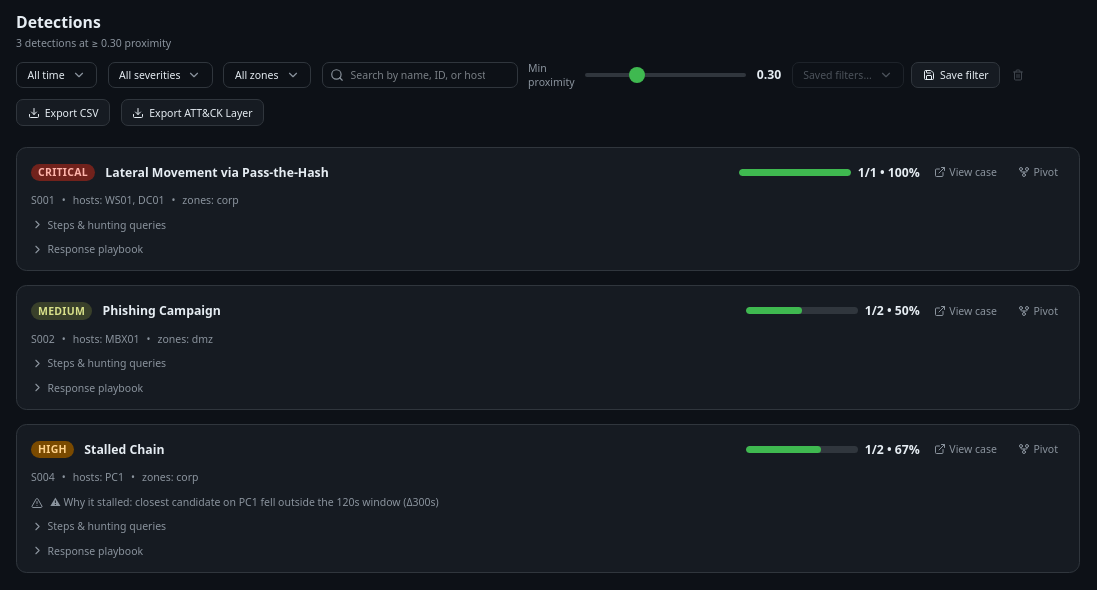
Test: Dashboard › severity filter can be cleared back to All (Fix 1: empty option restores unfiltered list)
The image size is (1097, 590).
Expected: the text "Lateral Movement via Pass-the-Hash" is shown, [105,164,329,180]
Expected: the text "Phishing Campaign" is shown, [103,302,221,319]
# Select CRITICAL
Click the dropdown named "severity".
click(160, 75)  # box [108,62,213,88]
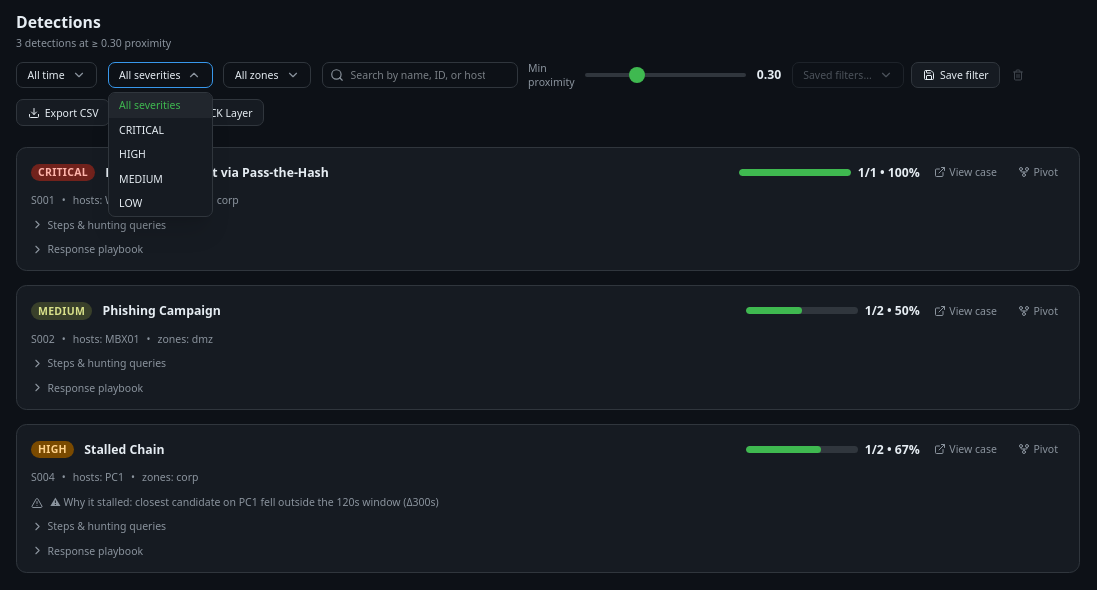
Click the option "CRITICAL".
click(142, 130)  # box [119,123,164,137]
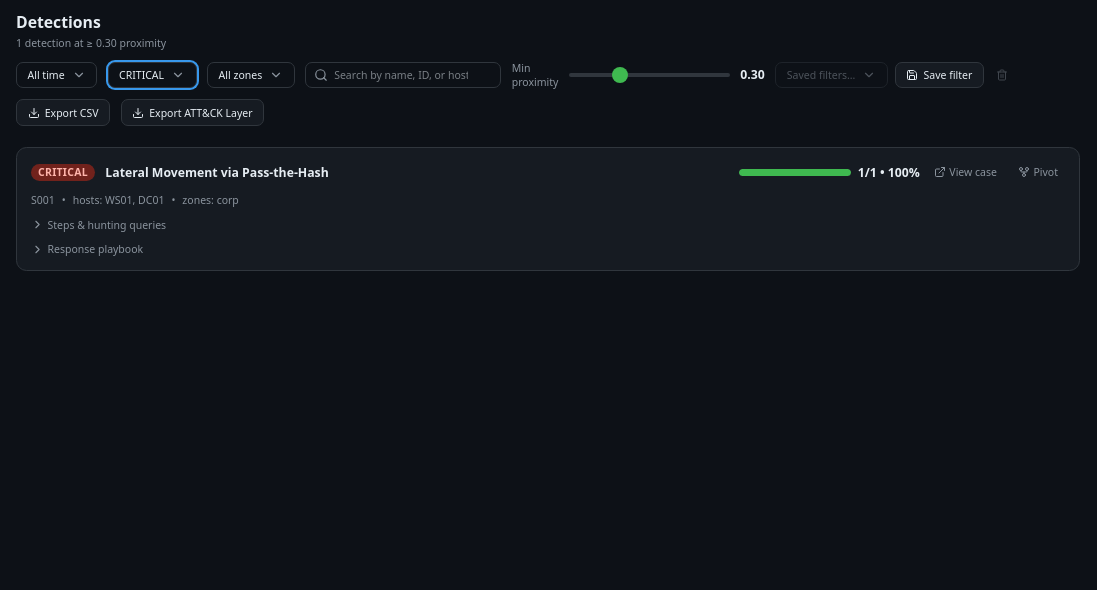
Expected: the text "Lateral Movement via Pass-the-Hash" is shown, [105,164,329,180]
Now the text "Phishing Campaign" is gone
# Clear by picking "All severities"
Click the dropdown named "severity".
click(152, 75)  # box [108,62,197,88]
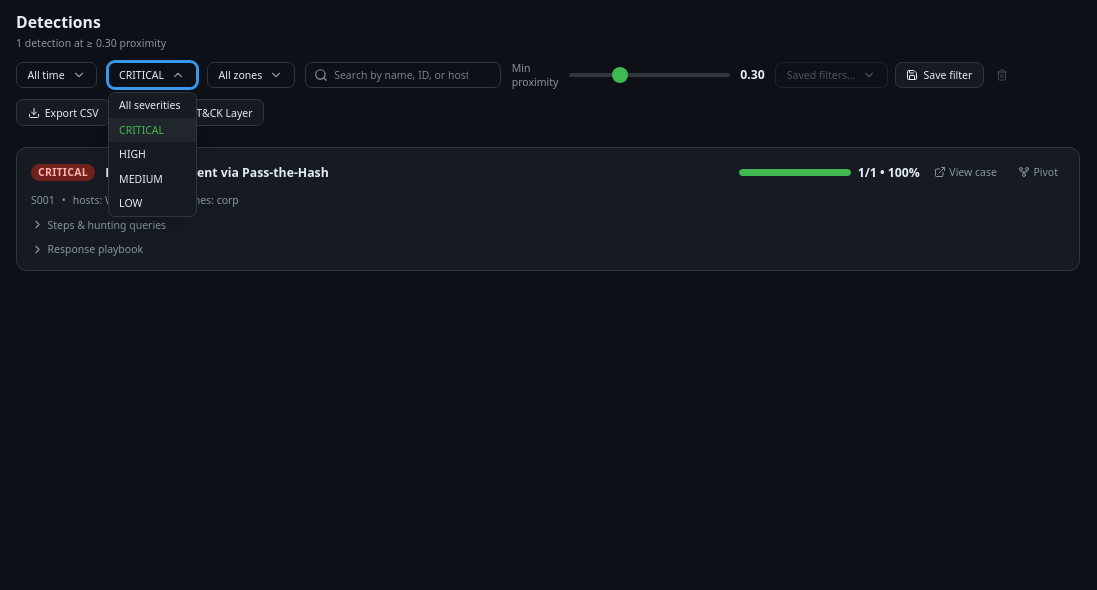
Click the option "All severities".
click(150, 105)  # box [119,98,180,112]
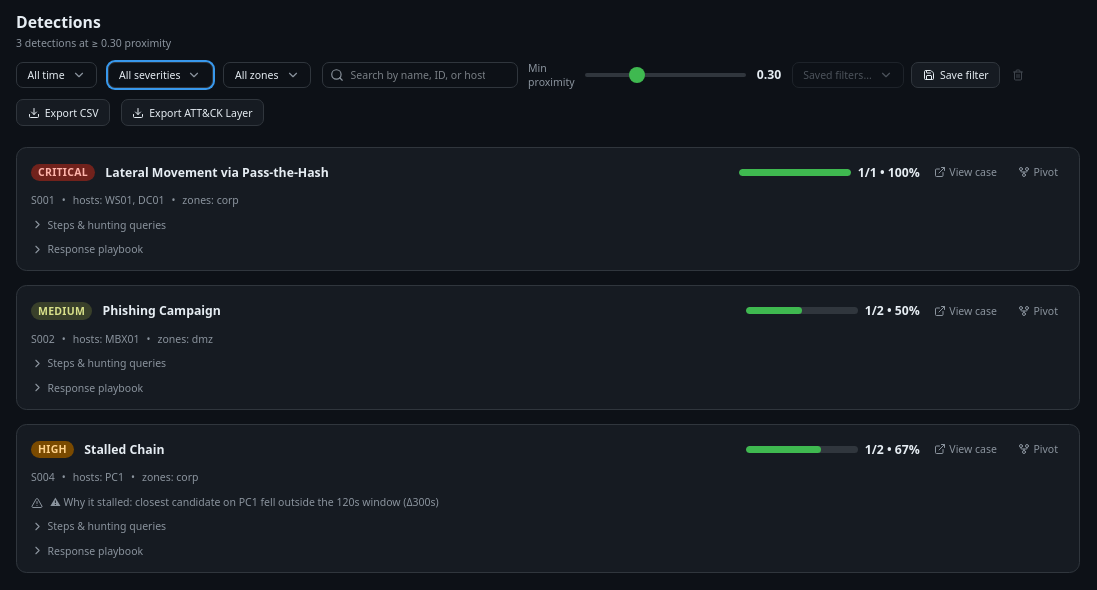
Expected: the text "Lateral Movement via Pass-the-Hash" is shown, [105,164,329,180]
Now the text "Phishing Campaign" is shown, box [103,302,221,319]
